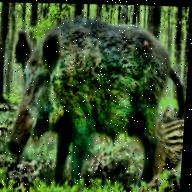boar: (0, 18, 183, 180)
